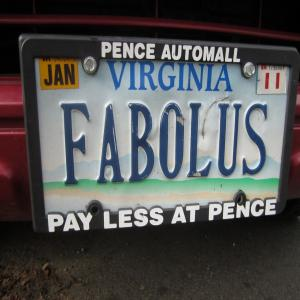Vehicle-registration-plate: (19, 32, 299, 236)
